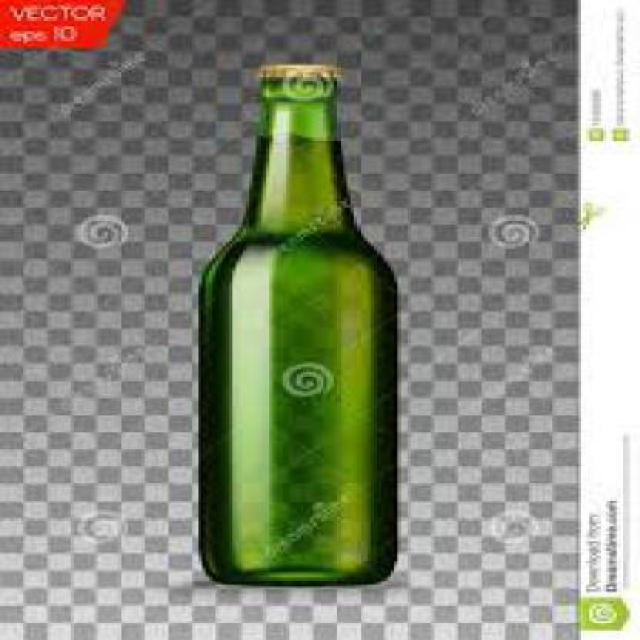kaca: (195, 77, 397, 585)
